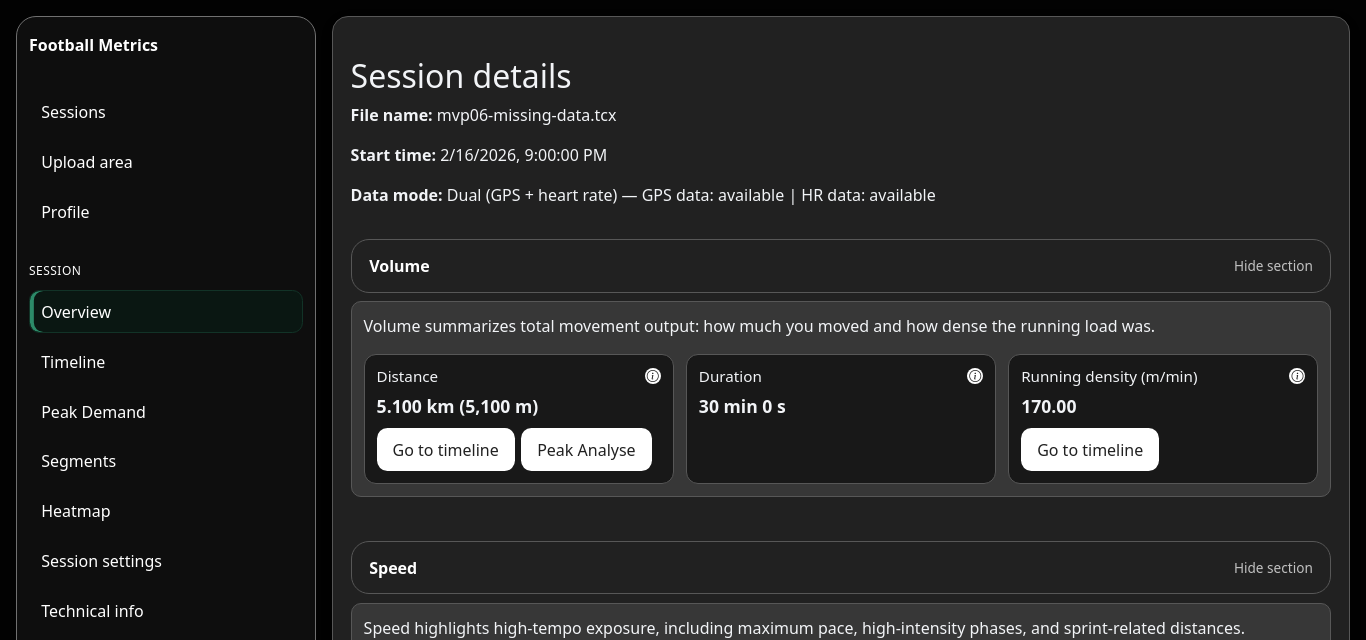
Test: App › Mvp06_Ac03_shows_clear_hints_when_heart_rate_or_gps_data_are_missing
The image size is (1366, 640).
Expected: the heading "Session details" is shown, [351, 54, 572, 97]
Click the button "Timeline" at (73, 362), box [29, 340, 303, 383]
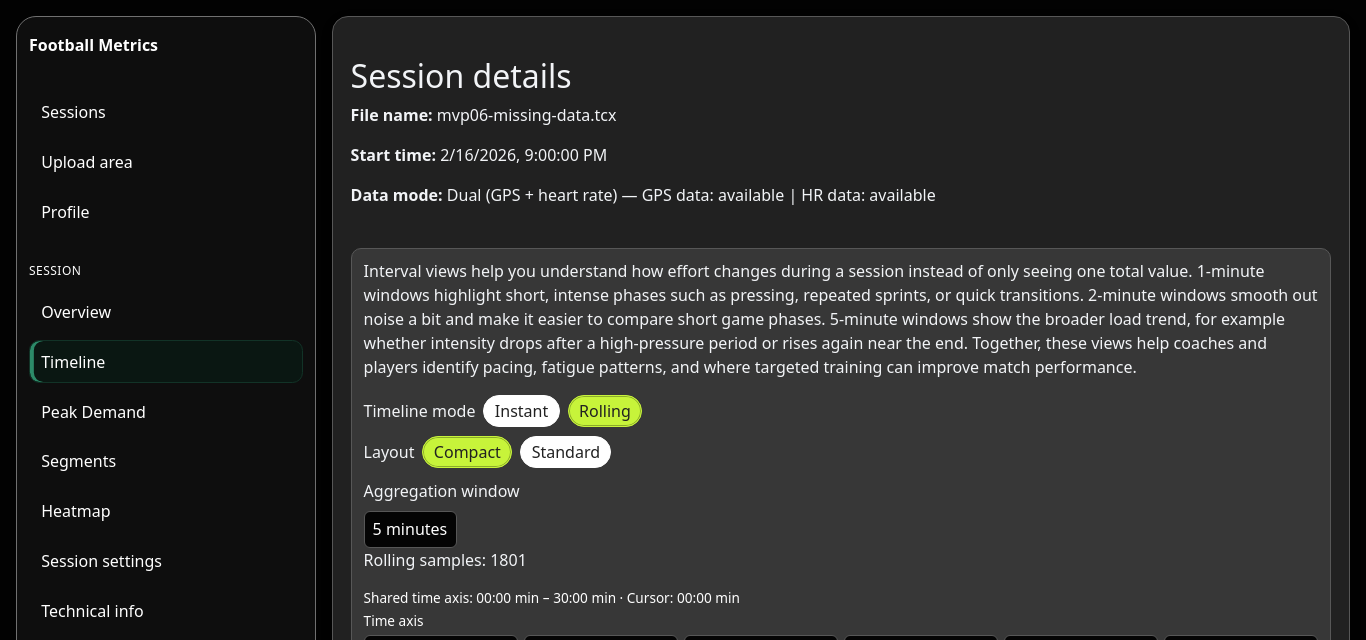
Click the button "Technical info" at (92, 611), box [29, 590, 303, 633]
(page scrolled)
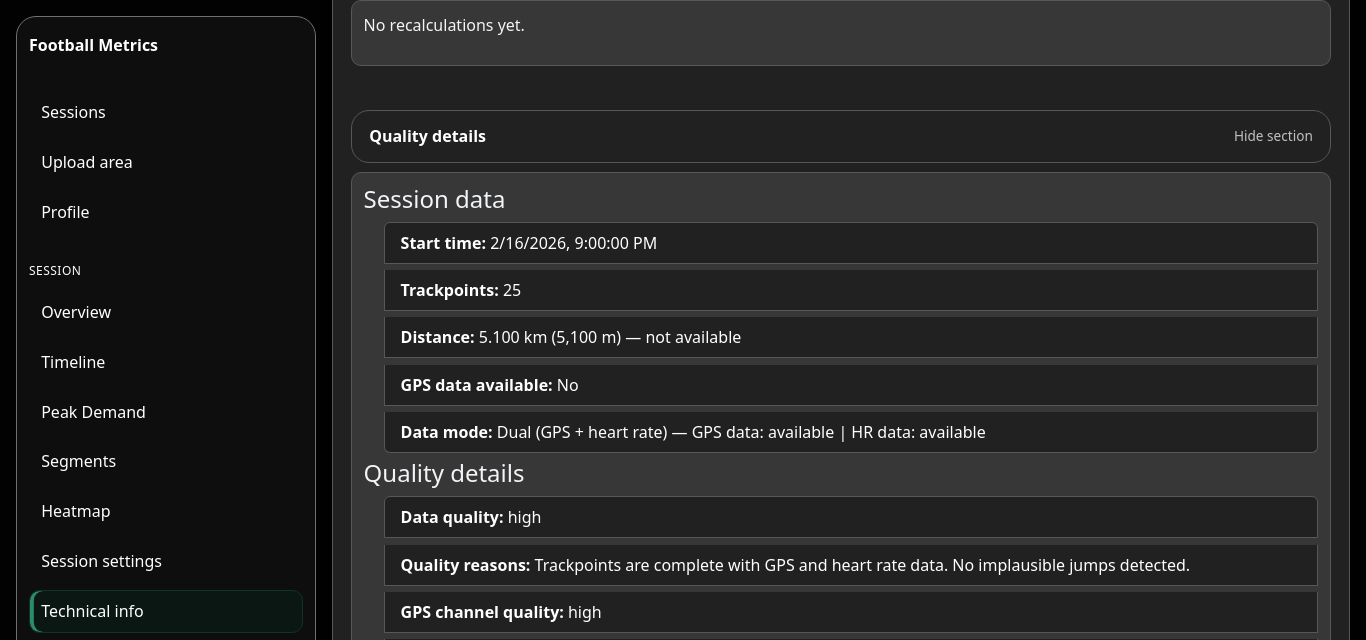
Now the text "GPS data available:" is shown, box [401, 374, 553, 396]
